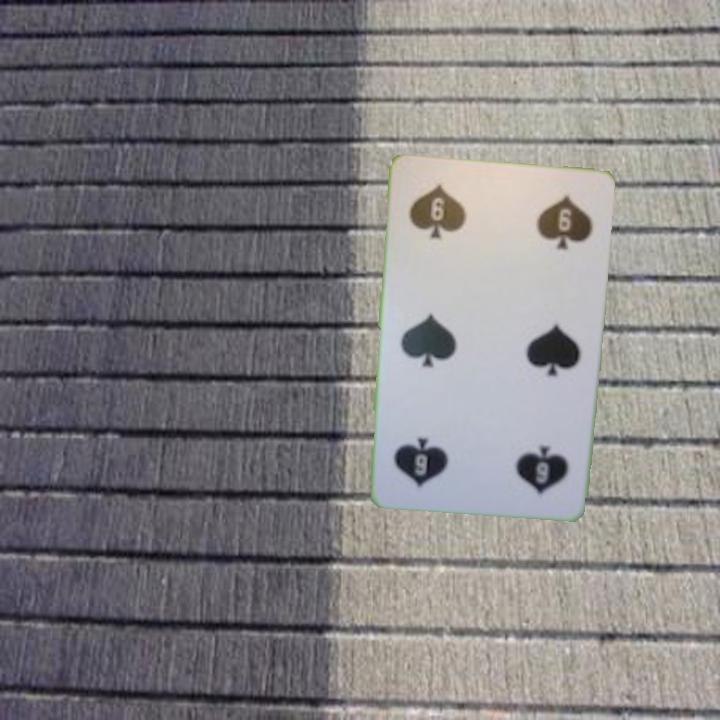s_6.png: (476, 413, 582, 506), (399, 171, 505, 264)
